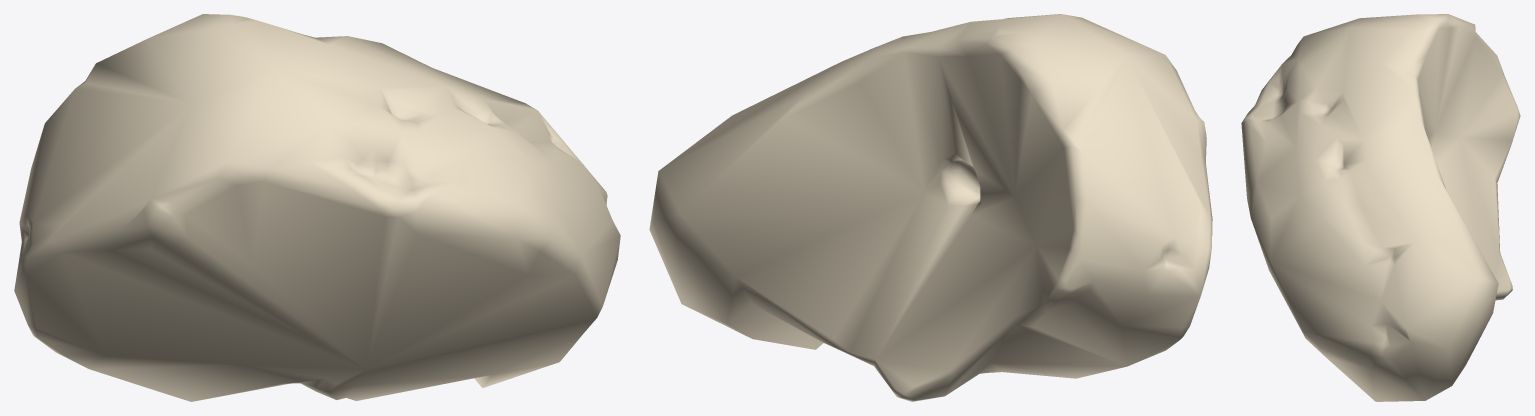
Rendered from navicular-bone-r.glb.
The picture shows the model from 3 angles, left to right: view 1: azimuth 30°, elevation 25°; view 2: azimuth 150°, elevation 25°; view 3: azimuth 270°, elevation 25°; orthographic projection. The views are drawn at different scales.
Parts seen in each view (by area): view 1: Navicular bone.r; view 2: Navicular bone.r; view 3: Navicular bone.r.
Boxes of the visible parts, x1=… form: Navicular bone.r: x1=14, y1=14, x2=620, y2=401; Navicular bone.r: x1=649, y1=14, x2=1212, y2=401; Navicular bone.r: x1=1241, y1=14, x2=1520, y2=401.
Bounding box in the file's own units: 0.0407 × 0.0275 × 0.024.
